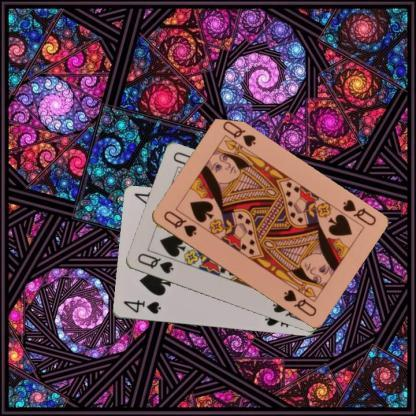4s: (120, 298, 162, 316)
Qs: (339, 196, 377, 228), (160, 208, 198, 239), (134, 250, 174, 275)
